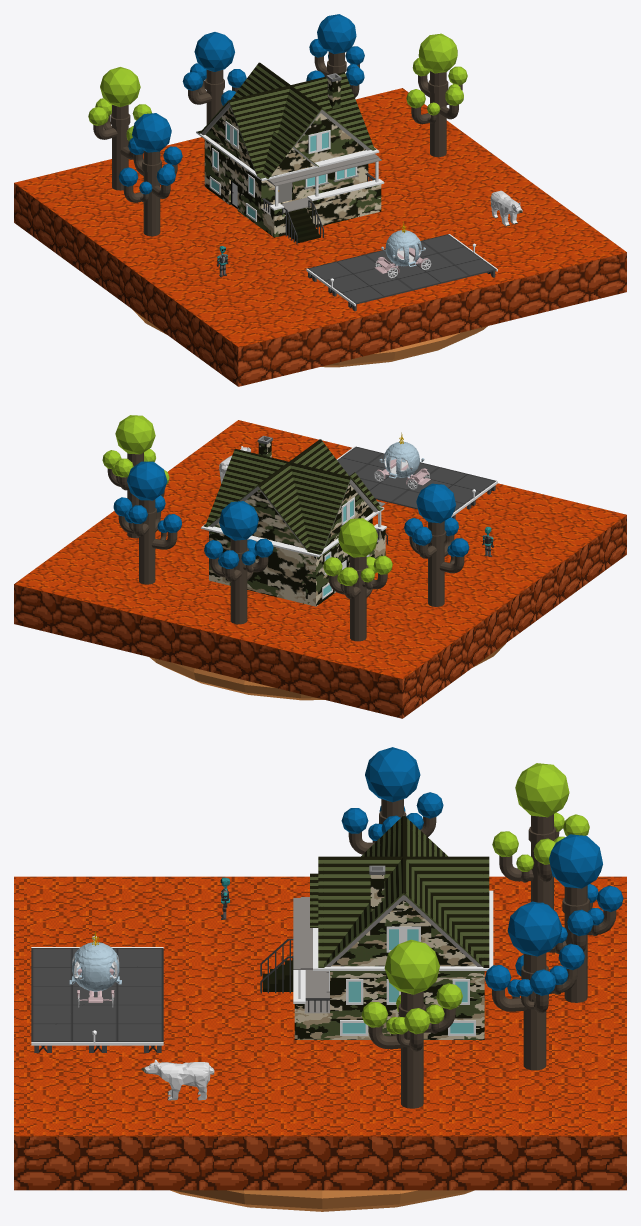
3 views of the same model, one above another, from view 1: azimuth 30°, elevation 25°; view 2: azimuth 150°, elevation 25°; view 3: azimuth 270°, elevation 25° (orthographic). The views are drawn at different scales.
Visible parts, largest first — view 1: Cube.001, Cube.002, UNDERGROUND_PIZZA, VEHICLES_FANTASY_CARRIAGE, ANIMAL_OSO_POLAR; view 2: Cube.001, Cube.002, UNDERGROUND_PIZZA, VEHICLES_FANTASY_CARRIAGE; view 3: Cube.001, Cube.002, UNDERGROUND_PIZZA, VEHICLES_FANTASY_CARRIAGE, ANIMAL_OSO_POLAR.
Part boxes in pixels (x1=…): Cube.001: x1=14, y1=14, x2=626, y2=386; Cube.002: x1=196, y1=62, x2=384, y2=244; UNDERGROUND_PIZZA: x1=132, y1=309, x2=487, y2=367; VEHICLES_FANTASY_CARRIAGE: x1=374, y1=221, x2=431, y2=278; ANIMAL_OSO_POLAR: x1=490, y1=190, x2=522, y2=226; Cube.001: x1=14, y1=415, x2=626, y2=718; Cube.002: x1=201, y1=435, x2=388, y2=606; UNDERGROUND_PIZZA: x1=149, y1=643, x2=505, y2=700; VEHICLES_FANTASY_CARRIAGE: x1=374, y1=432, x2=430, y2=489; Cube.001: x1=14, y1=747, x2=626, y2=1190; Cube.002: x1=260, y1=816, x2=493, y2=1039; UNDERGROUND_PIZZA: x1=170, y1=1190, x2=474, y2=1211; VEHICLES_FANTASY_CARRIAGE: x1=69, y1=931, x2=121, y2=1007; ANIMAL_OSO_POLAR: x1=141, y1=1059, x2=214, y2=1100.
Size of the model in its own units: 4000 by 1875 by 4000.
Materials: 36 (6 with a texture image).
